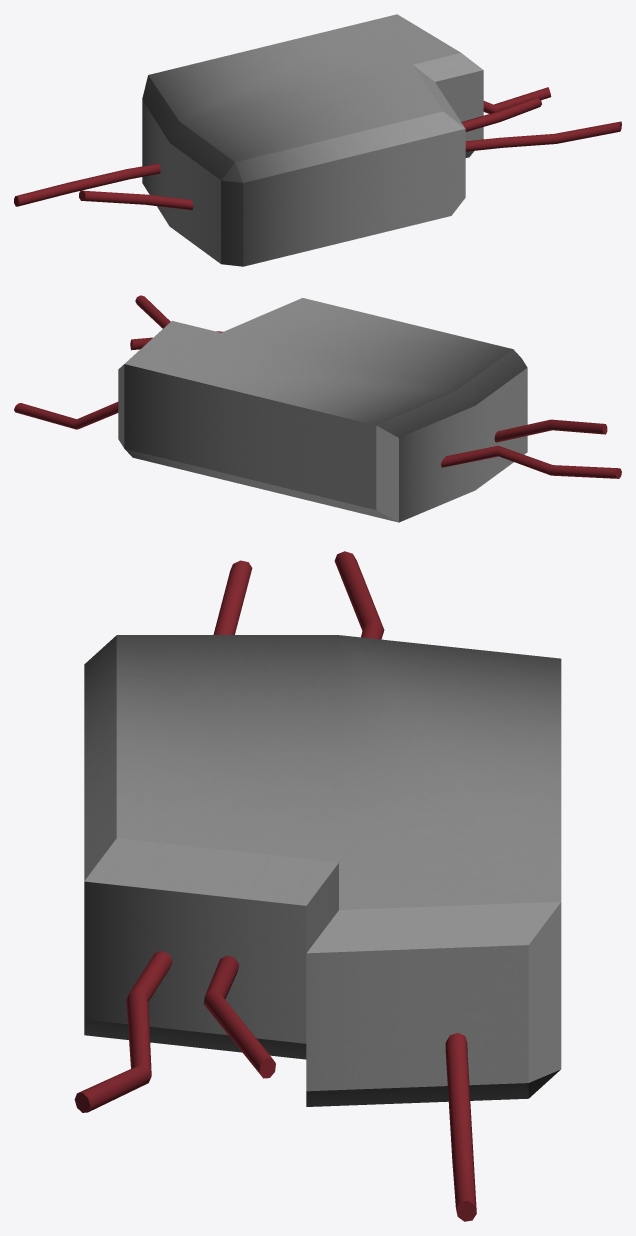
File: Debrit_1.fbx
The picture shows the model from 3 angles, top to bottom: view 1: azimuth 30°, elevation 25°; view 2: azimuth 150°, elevation 25°; view 3: azimuth 270°, elevation 25°; orthographic projection. The views are drawn at different scales.
Parts seen in each view (by area): view 1: Debrit_1; view 2: Debrit_1; view 3: Debrit_1.
Part boxes in pixels (left/top/right/bottom): Debrit_1: left=14, top=14, right=621, bottom=266; Debrit_1: left=14, top=295, right=621, bottom=522; Debrit_1: left=74, top=551, right=561, bottom=1221.
Bounding box in the file's own units: 108 × 18.19 × 40.16.
Materials: 1 (1 with a texture image).
